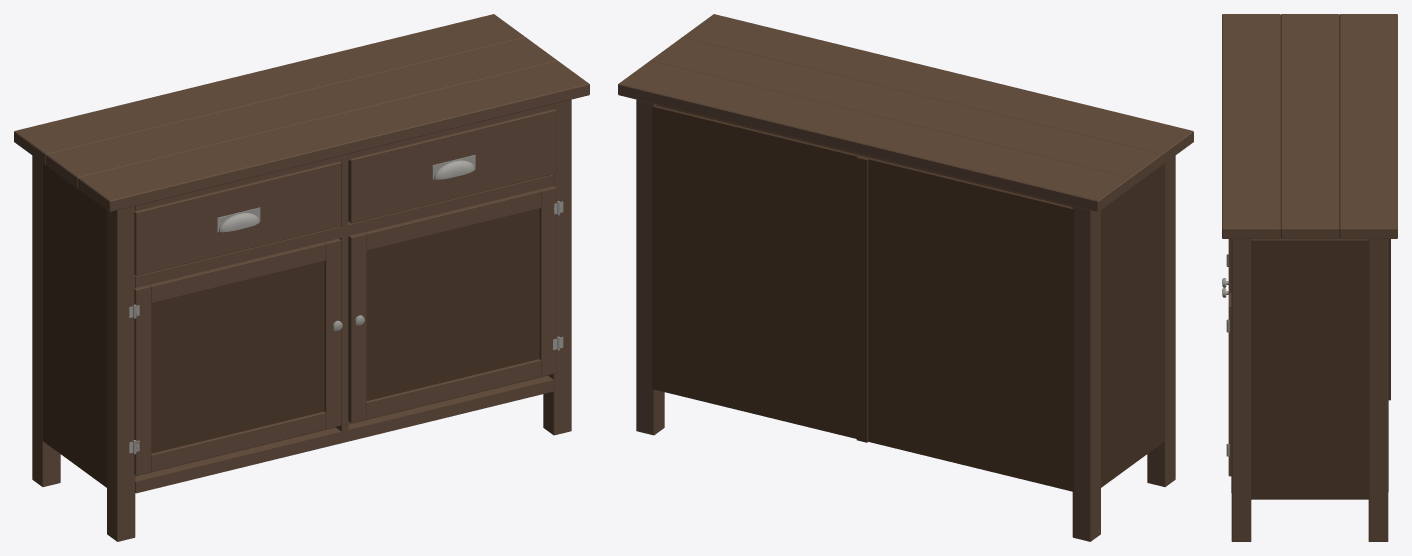
Rendered from coffee-sideboard-7090631425c3.glb.
The picture shows the model from 3 angles, left to right: view 1: azimuth 30°, elevation 25°; view 2: azimuth 150°, elevation 25°; view 3: azimuth 270°, elevation 25°; orthographic projection. The views are drawn at different scales.
Parts seen in each view (by area): view 1: wood-coffee, wood-coffee-inset, brushed; view 2: wood-coffee-inset, wood-coffee; view 3: wood-coffee, wood-coffee-inset, brushed.
Boxes of the visible parts, bbox=[...] form: wood-coffee: bbox=[14, 14, 589, 541]; wood-coffee-inset: bbox=[42, 163, 539, 487]; brushed: bbox=[129, 155, 563, 454]; wood-coffee-inset: bbox=[652, 105, 1165, 491]; wood-coffee: bbox=[618, 14, 1193, 541]; wood-coffee: bbox=[1222, 14, 1397, 541]; wood-coffee-inset: bbox=[1251, 238, 1390, 499]; brushed: bbox=[1222, 254, 1229, 456].
Size of the model in its own units: 1.3 by 0.9 by 0.4496.
